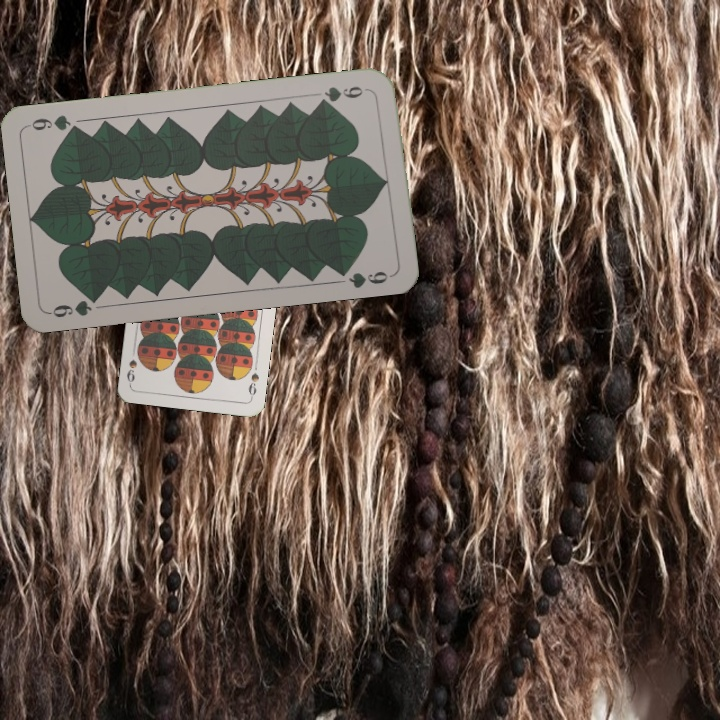G9: (46, 291, 103, 321), (315, 82, 373, 107)
S9: (244, 369, 261, 401)
